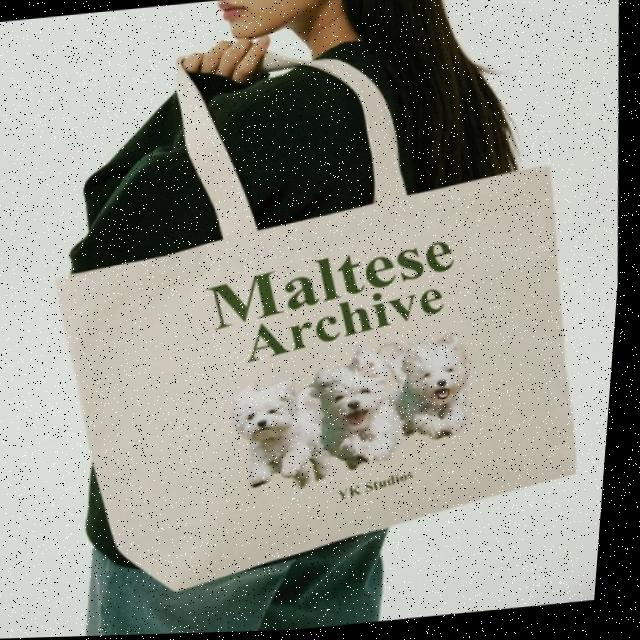ecobag: (29, 10, 628, 594)
